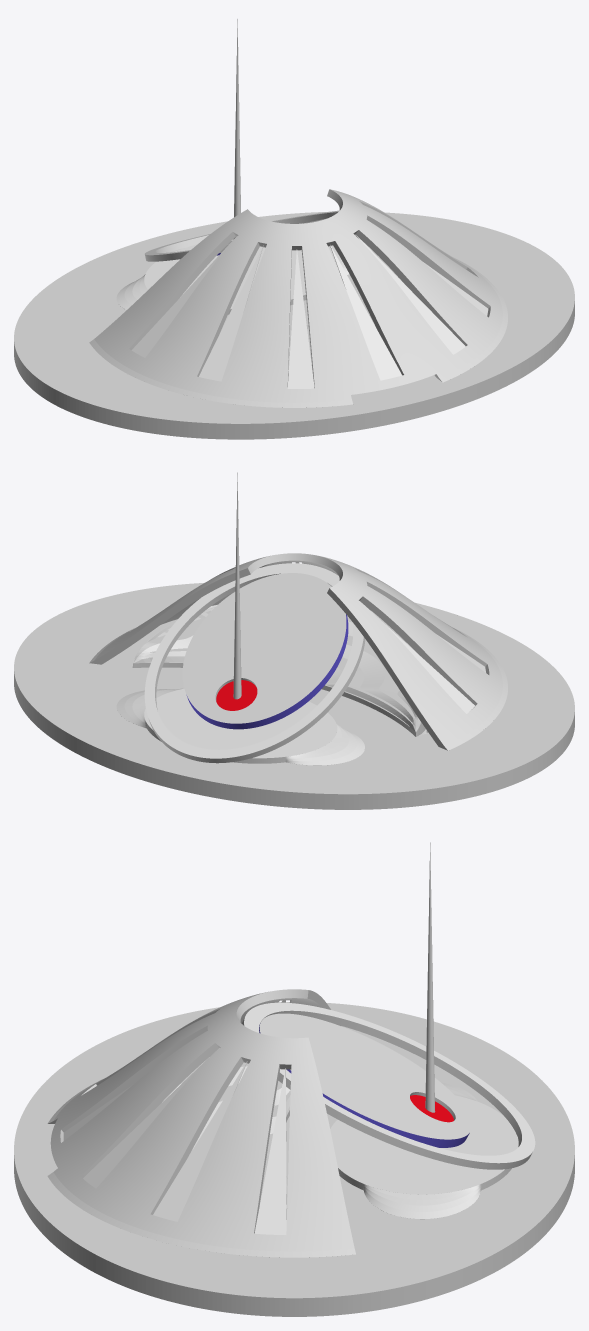
3 renders of one model, top to bottom at view 1: azimuth 30°, elevation 25°; view 2: azimuth 150°, elevation 25°; view 3: azimuth 270°, elevation 25°, orthographic. The views are drawn at different scales.
Parts seen in each view (by area): view 1: Arena; view 2: Arena; view 3: Arena.
Part boxes in pixels (left/top/right/bottom): Arena: left=14, top=19, right=574, bottom=439; Arena: left=14, top=472, right=574, bottom=809; Arena: left=14, top=842, right=574, bottom=1316.
Size of the model in its own units: 271 by 176 by 339.
